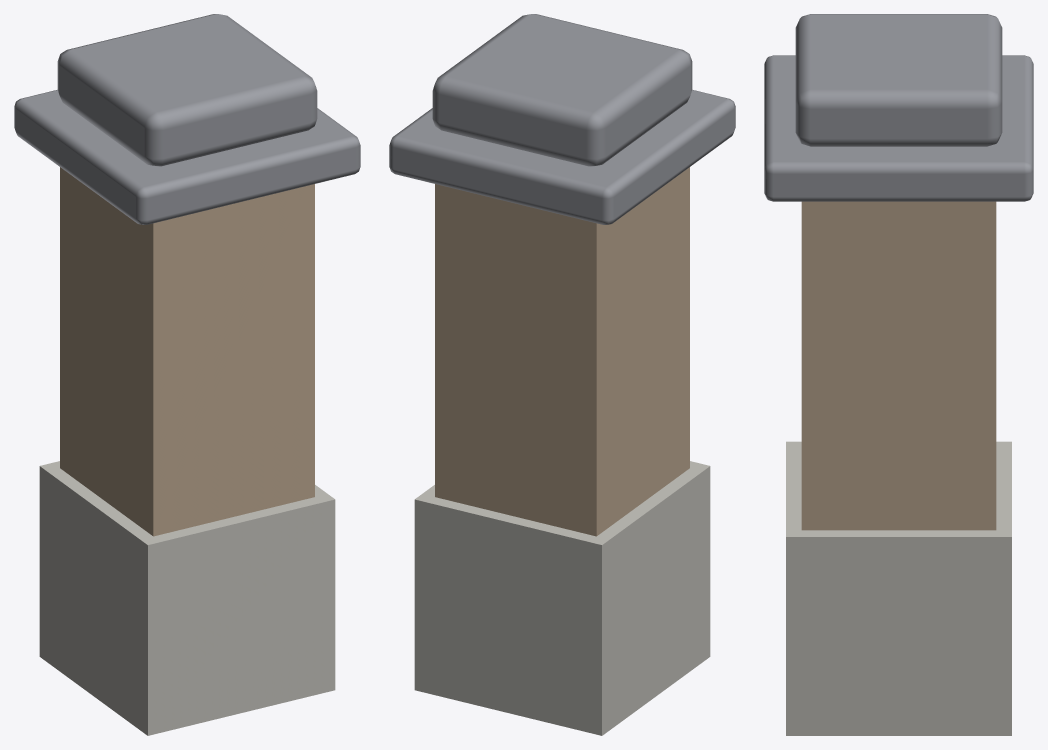
File: korean-hanok-village-and-street-village-wall-end-pier-1430de44__38050.glb
3 renders of one model, left to right at view 1: azimuth 30°, elevation 25°; view 2: azimuth 150°, elevation 25°; view 3: azimuth 270°, elevation 25°, orthographic. The views are drawn at different scales.
Parts seen in each view (by area): view 1: village-wall-end-pier; view 2: village-wall-end-pier; view 3: village-wall-end-pier.
Part boxes in pixels (x1,y1,x2,y2): village-wall-end-pier: [14, 14, 360, 735]; village-wall-end-pier: [389, 14, 735, 735]; village-wall-end-pier: [764, 14, 1033, 735].
Size of the model in its own units: 0.86 by 2.24 by 0.86.
